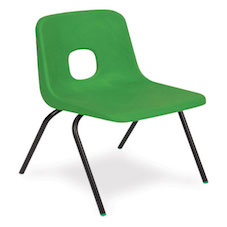chair: (7, 7, 216, 209)
